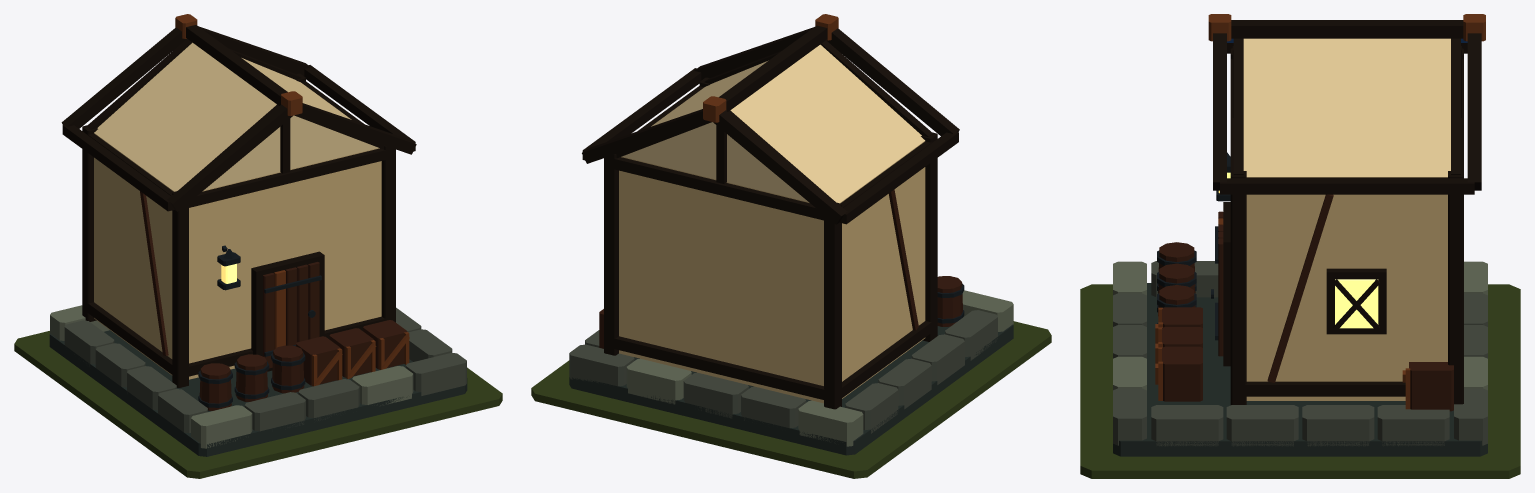
Rendered from storehouse_t4.glb.
The picture shows the model from 3 angles, left to right: view 1: azimuth 30°, elevation 25°; view 2: azimuth 150°, elevation 25°; view 3: azimuth 270°, elevation 25°; orthographic projection. The views are drawn at different scales.
Visible parts, largest first — view 1: MMR | storehouse | T04 Architecture.001, MMR | storehouse | Tier 04 Ground.001; view 2: MMR | storehouse | T04 Architecture.001, MMR | storehouse | Tier 04 Ground.001; view 3: MMR | storehouse | T04 Architecture.001, MMR | storehouse | Tier 04 Ground.001.
Boxes of the visible parts, bbox=[...] form: MMR | storehouse | T04 Architecture.001: bbox=[49, 14, 467, 456]; MMR | storehouse | Tier 04 Ground.001: bbox=[14, 331, 502, 478]; MMR | storehouse | T04 Architecture.001: bbox=[569, 14, 1013, 455]; MMR | storehouse | Tier 04 Ground.001: bbox=[531, 321, 1051, 478]; MMR | storehouse | T04 Architecture.001: bbox=[1113, 14, 1487, 456]; MMR | storehouse | Tier 04 Ground.001: bbox=[1080, 284, 1520, 478].
Bounding box in the file's own units: 2.35 × 2.17 × 2.35.
Materials: 2 (1 with a texture image).
